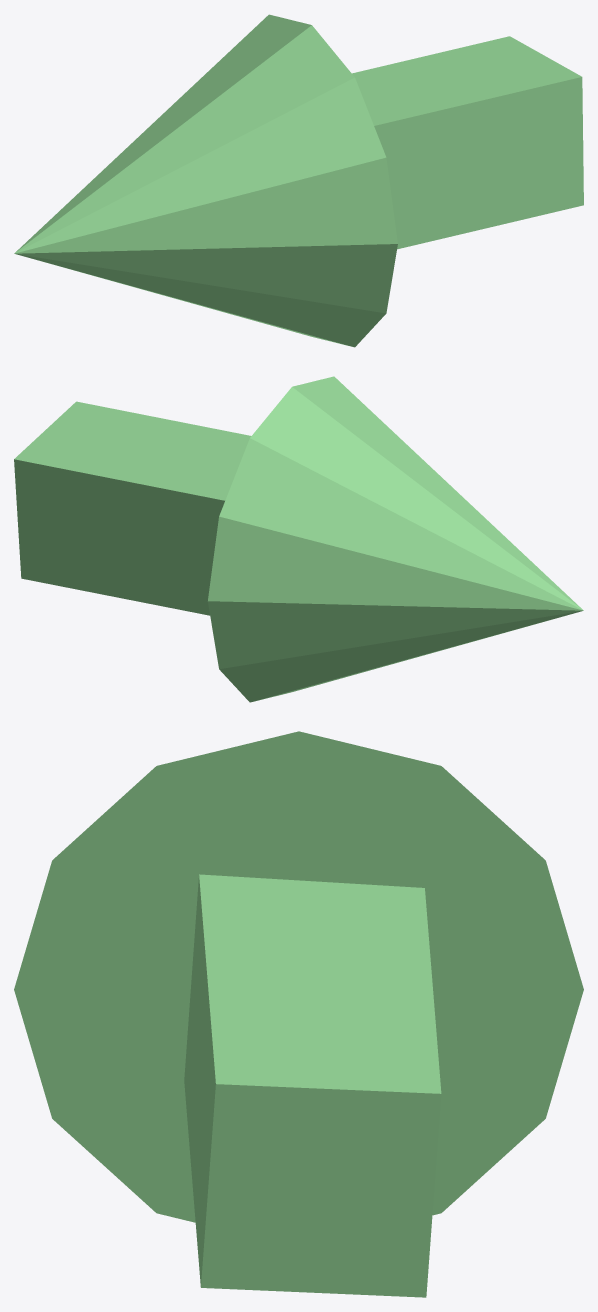
The model's file is arrow.fbx.
The picture shows the model from 3 angles, top to bottom: view 1: azimuth 30°, elevation 25°; view 2: azimuth 150°, elevation 25°; view 3: azimuth 270°, elevation 25°; orthographic projection. The views are drawn at different scales.
Visible parts, largest first — view 1: arrow; view 2: arrow; view 3: arrow.
Part boxes in pixels (x1,y1,x2,y2): arrow: (14, 14, 583, 347); arrow: (14, 376, 583, 702); arrow: (14, 731, 583, 1297).
Bounding box in the file's own units: 36.46 × 20 × 20.
